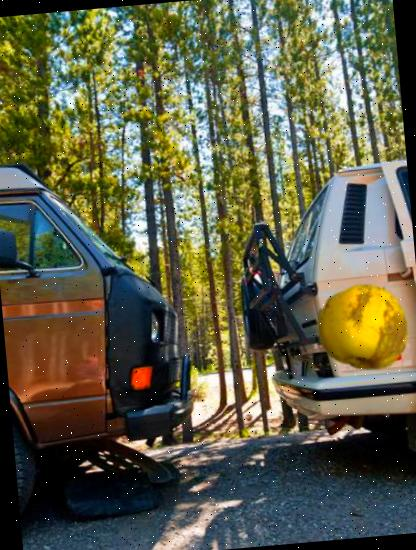Apple: (314, 274, 416, 376)
